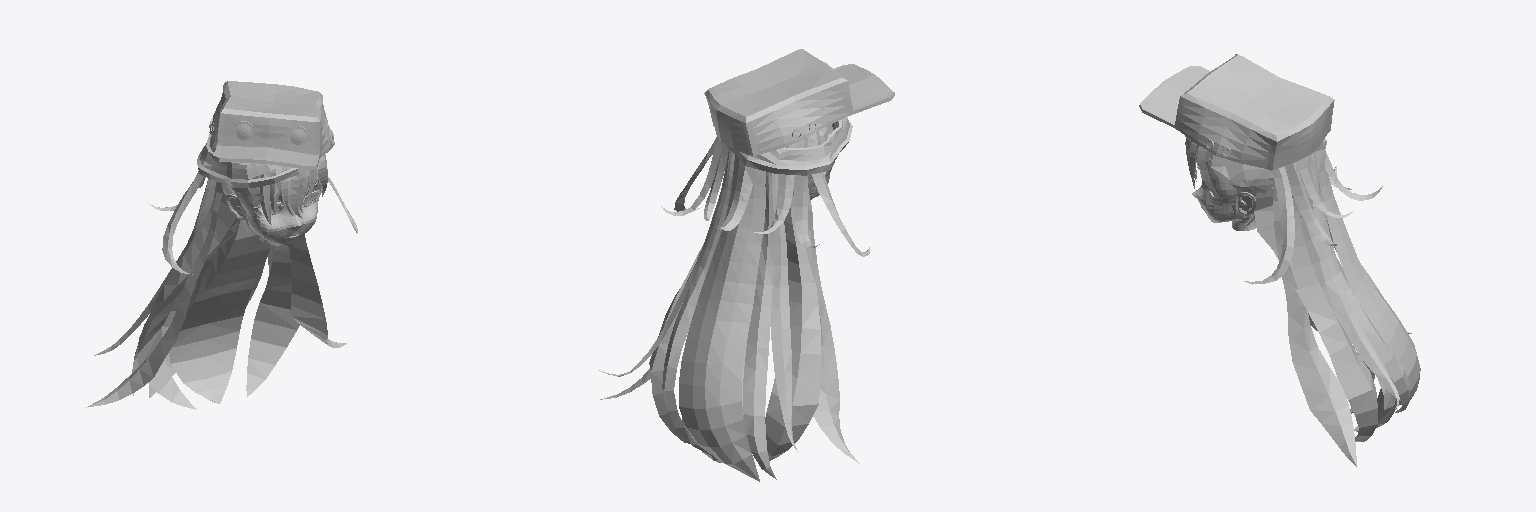
3 views of the same model, side by side, from view 1: azimuth 30°, elevation 25°; view 2: azimuth 150°, elevation 25°; view 3: azimuth 270°, elevation 25° (orthographic).
Parts seen in each view (by area): view 1: H_Back_2_mtr_G11_V100.029, Hat_mtr_G11_V100.040, H_Back_0_mtr_G11_V100.027, Hood_mtr_G11_V100.041, H_Front_0_mtr_G11_V100.024, Face_LineNoth_mtr_G11_V100.021, Face_mtr_G11_V100.022; view 2: H_Back_0_mtr_G11_V100.027, Hat_mtr_G11_V100.040, H_Back_2_mtr_G11_V100.029, Hood_mtr_G11_V100.041; view 3: Hat_mtr_G11_V100.040, H_Back_2_mtr_G11_V100.029, H_Back_0_mtr_G11_V100.027, Face_mtr_G11_V100.022, Hair_BackUn_mtr_G11_V100.023, H_Front_0_mtr_G11_V100.024.
Part boxes in pixels (left/top/right/bottom): H_Back_2_mtr_G11_V100.029: left=86, top=182, right=346, bottom=409; Hat_mtr_G11_V100.040: left=209, top=81, right=334, bottom=169; H_Back_0_mtr_G11_V100.027: left=94, top=136, right=357, bottom=397; Hood_mtr_G11_V100.041: left=197, top=134, right=319, bottom=188; H_Front_0_mtr_G11_V100.024: left=238, top=155, right=327, bottom=223; Face_LineNoth_mtr_G11_V100.021: left=253, top=183, right=321, bottom=241; Face_mtr_G11_V100.022: left=225, top=175, right=319, bottom=246; H_Back_0_mtr_G11_V100.027: left=599, top=131, right=869, bottom=481; Hat_mtr_G11_V100.040: left=704, top=49, right=894, bottom=156; H_Back_2_mtr_G11_V100.029: left=600, top=177, right=859, bottom=463; Hood_mtr_G11_V100.041: left=727, top=117, right=852, bottom=175; Hat_mtr_G11_V100.040: left=1139, top=54, right=1334, bottom=170; H_Back_2_mtr_G11_V100.029: left=1254, top=174, right=1400, bottom=466; H_Back_0_mtr_G11_V100.027: left=1244, top=149, right=1420, bottom=412; Face_mtr_G11_V100.022: left=1194, top=157, right=1255, bottom=230; Hair_BackUn_mtr_G11_V100.023: left=1210, top=153, right=1273, bottom=225; H_Front_0_mtr_G11_V100.024: left=1185, top=138, right=1216, bottom=198.
Size of the model in its own units: 0.5613 by 0.72 by 0.5219.